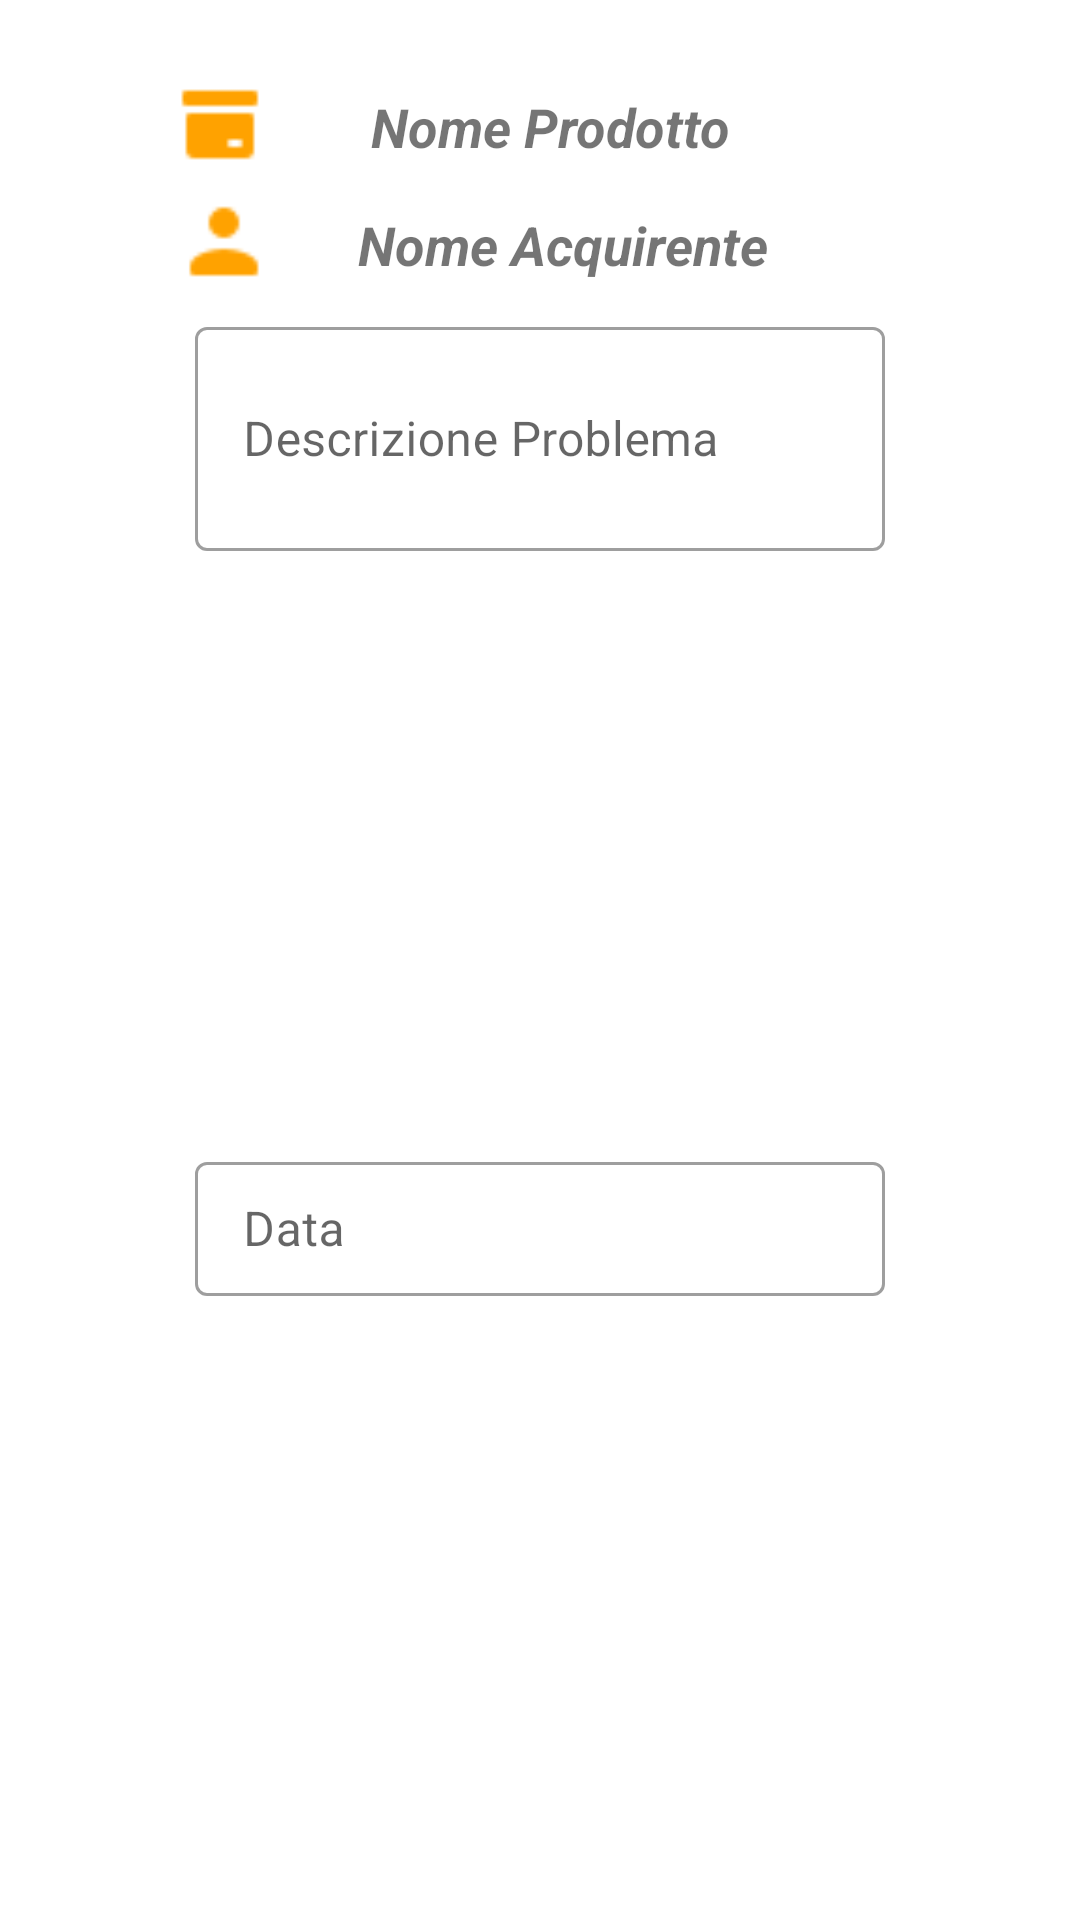

Locate icon controls on the screen. Image size 1080px x 1920px, boxes as (x1, y1, x2, y2).
icona utente: (189, 206, 259, 277)
